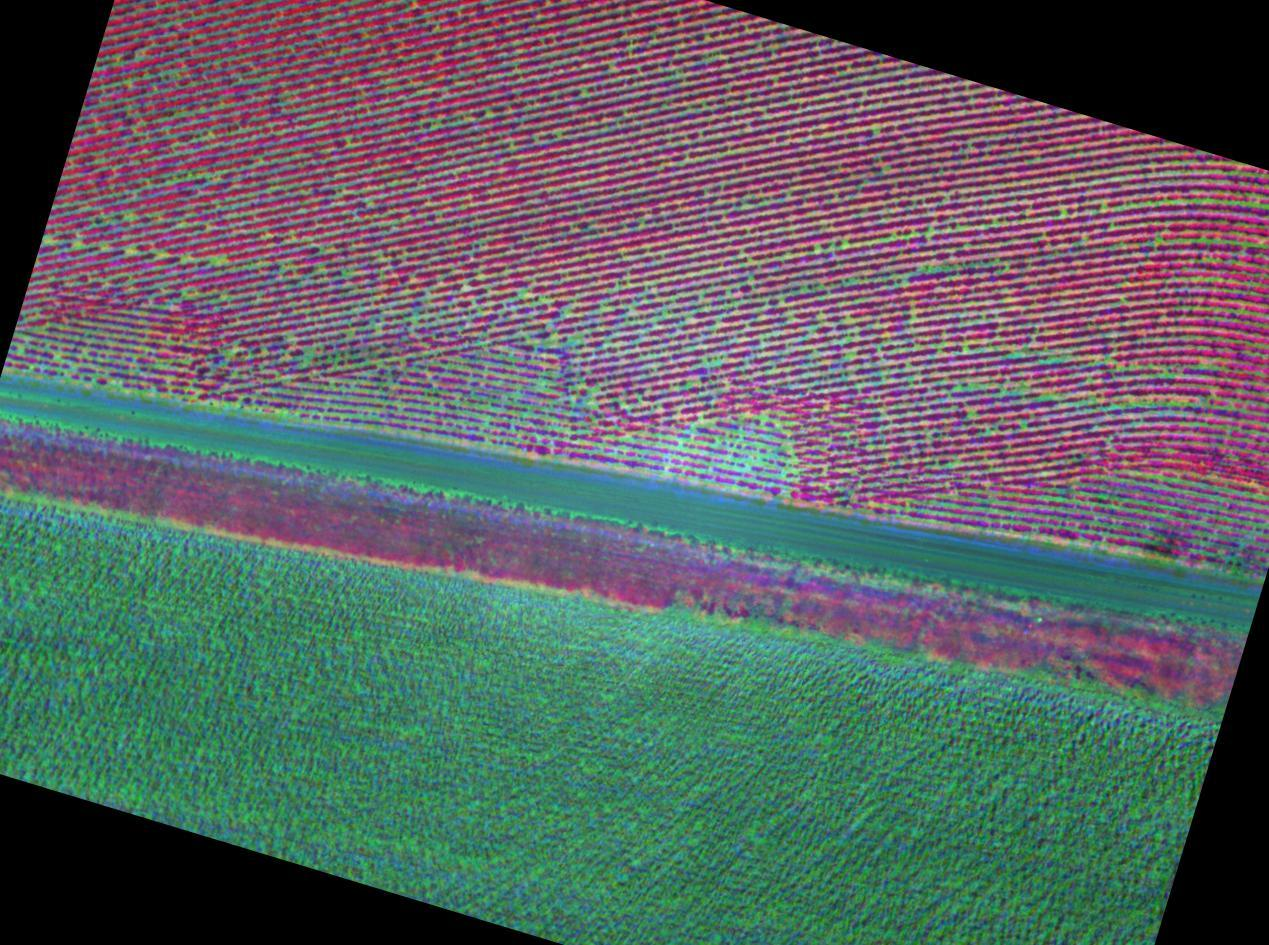dc: (215, 258, 221, 264), (1013, 352, 1019, 358), (126, 249, 131, 254), (954, 462, 959, 467), (565, 310, 569, 315), (379, 361, 383, 366), (626, 436, 630, 441), (209, 134, 213, 138), (687, 159, 691, 163), (548, 189, 552, 193), (844, 242, 848, 246), (77, 245, 81, 249), (520, 292, 524, 296), (848, 355, 852, 359), (761, 416, 765, 420), (785, 446, 789, 450), (432, 125, 435, 130), (929, 232, 932, 236), (876, 129, 879, 132), (847, 319, 850, 322), (774, 77, 777, 80)
